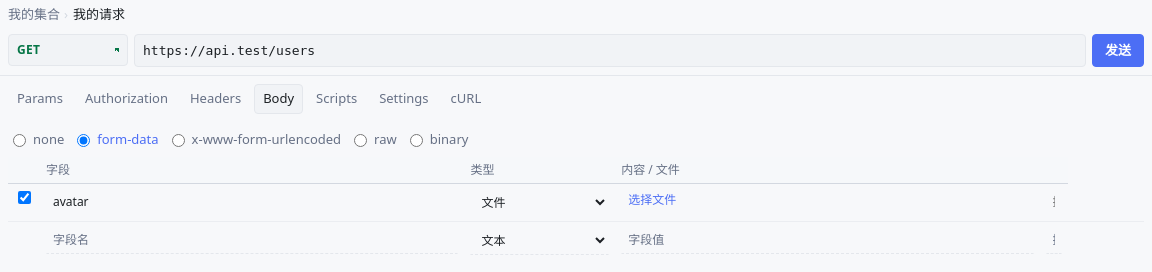
Scenario: 请求体文件的选取（spec: 请求体文件的选取） › 文件行点击「选择文件」后句柄与文件名写入该行
This screenshot has width=1152, height=272.
Click the button with aria-label "选择文件 0" at [652, 200], box [621,188,683,212]
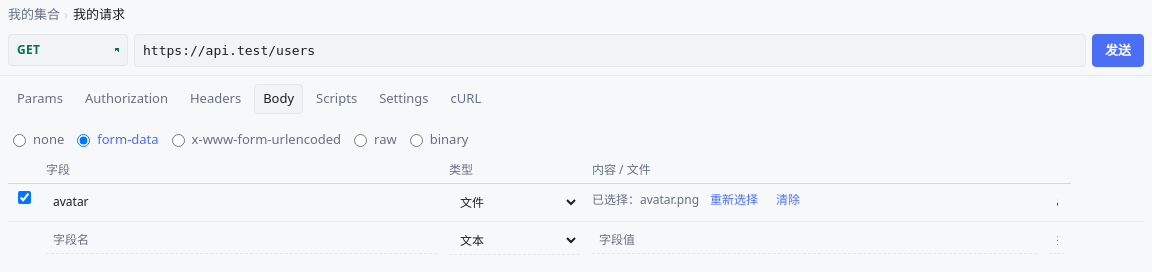
Check: the button with aria-label "重新选择文件 0" is shown, box [703,188,765,212]
Check: the button with aria-label "清除文件 0" is shown, box [769,188,807,212]
